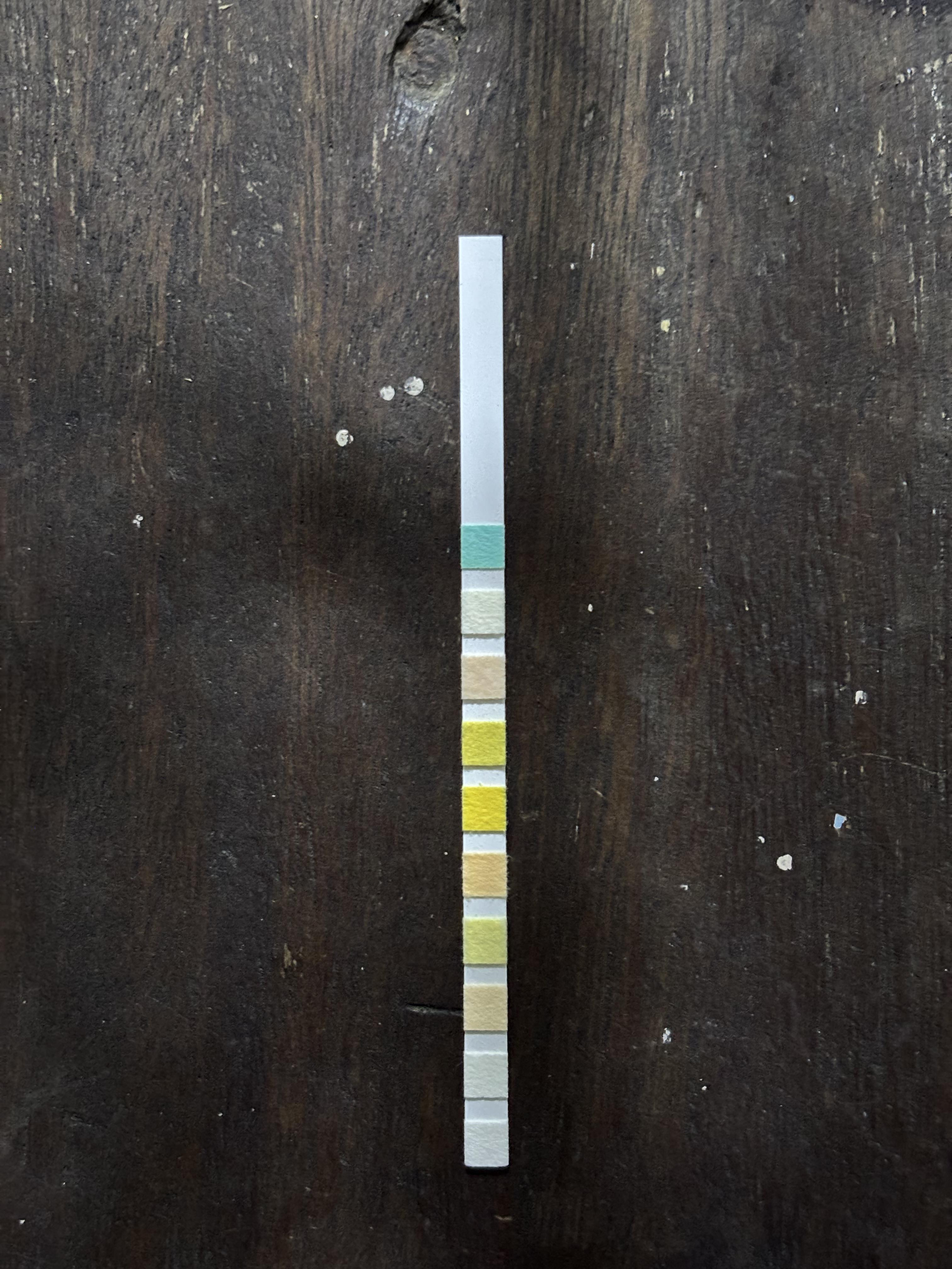Bilirubin: (463, 595, 504, 634)
Blood: (464, 793, 504, 832)
Glucose: (462, 528, 503, 567)
Ketone: (463, 660, 504, 698)
Leukocytes: (468, 1125, 508, 1164)
Nitrite: (465, 1057, 506, 1096)
Protein: (465, 923, 505, 962)
SpGravity: (464, 725, 504, 764)
Urobilinogen: (465, 989, 506, 1028)
pH: (464, 857, 504, 896)
strip: (462, 241, 509, 1167)
